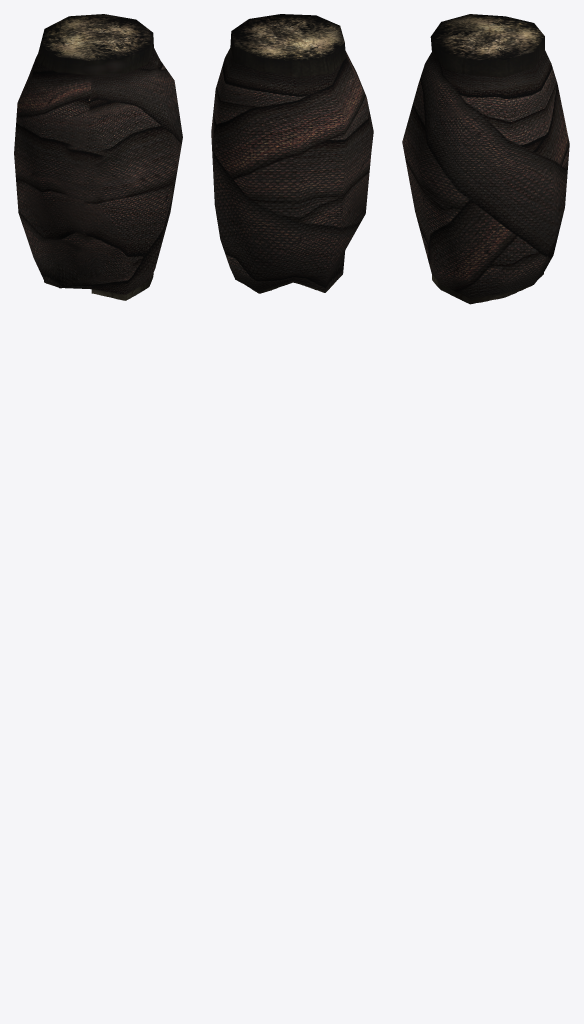
File: Torch.fbx
3 renders of one model, left to right at view 1: azimuth 30°, elevation 25°; view 2: azimuth 150°, elevation 25°; view 3: azimuth 270°, elevation 25°, orthographic.
Parts seen in each view (by area): view 1: Torch; view 2: Torch; view 3: Torch.
Boxes of the visible parts, x1=… form: Torch: x1=14, y1=14, x2=182, y2=300; Torch: x1=211, y1=14, x2=373, y2=293; Torch: x1=402, y1=14, x2=569, y2=304.
Bounding box in the file's own units: 335 × 2172 × 344.
